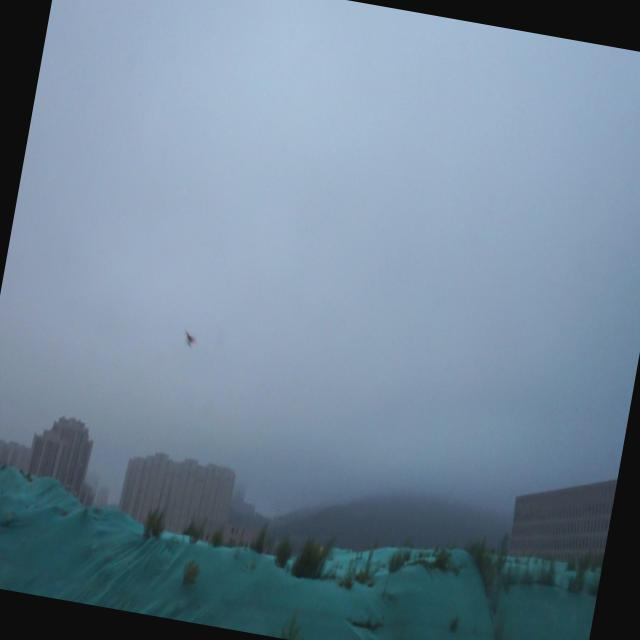drone: (180, 328, 202, 348)
